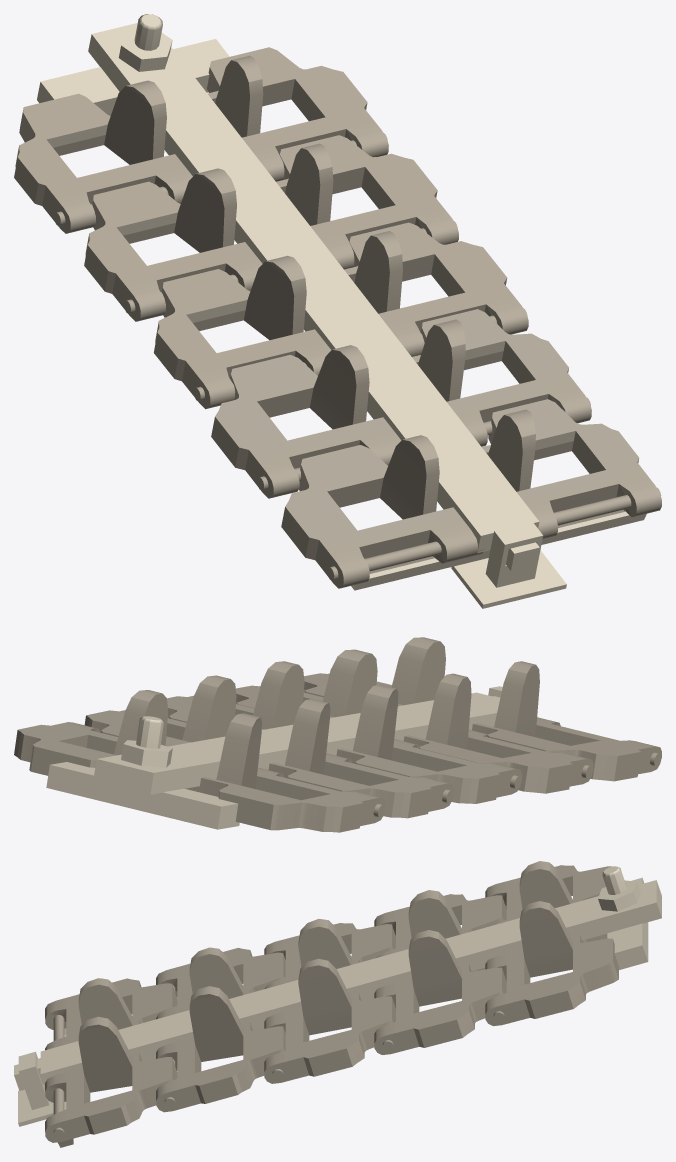
Rendered from AddOnTrackMed.fbx.
3 renders of one model, top to bottom at view 1: azimuth 30°, elevation 25°; view 2: azimuth 150°, elevation 25°; view 3: azimuth 270°, elevation 25°, orthographic. The views are drawn at different scales.
Visible parts, largest first — view 1: AddONTrack2; view 2: AddONTrack2; view 3: AddONTrack2.
Boxes of the visible parts, box(x1,y1,x2,y2) form: AddONTrack2: box(14, 14, 661, 608); AddONTrack2: box(14, 637, 661, 832); AddONTrack2: box(14, 861, 661, 1147).
Size of the model in its own units: 171 by 81.24 by 70.83.
